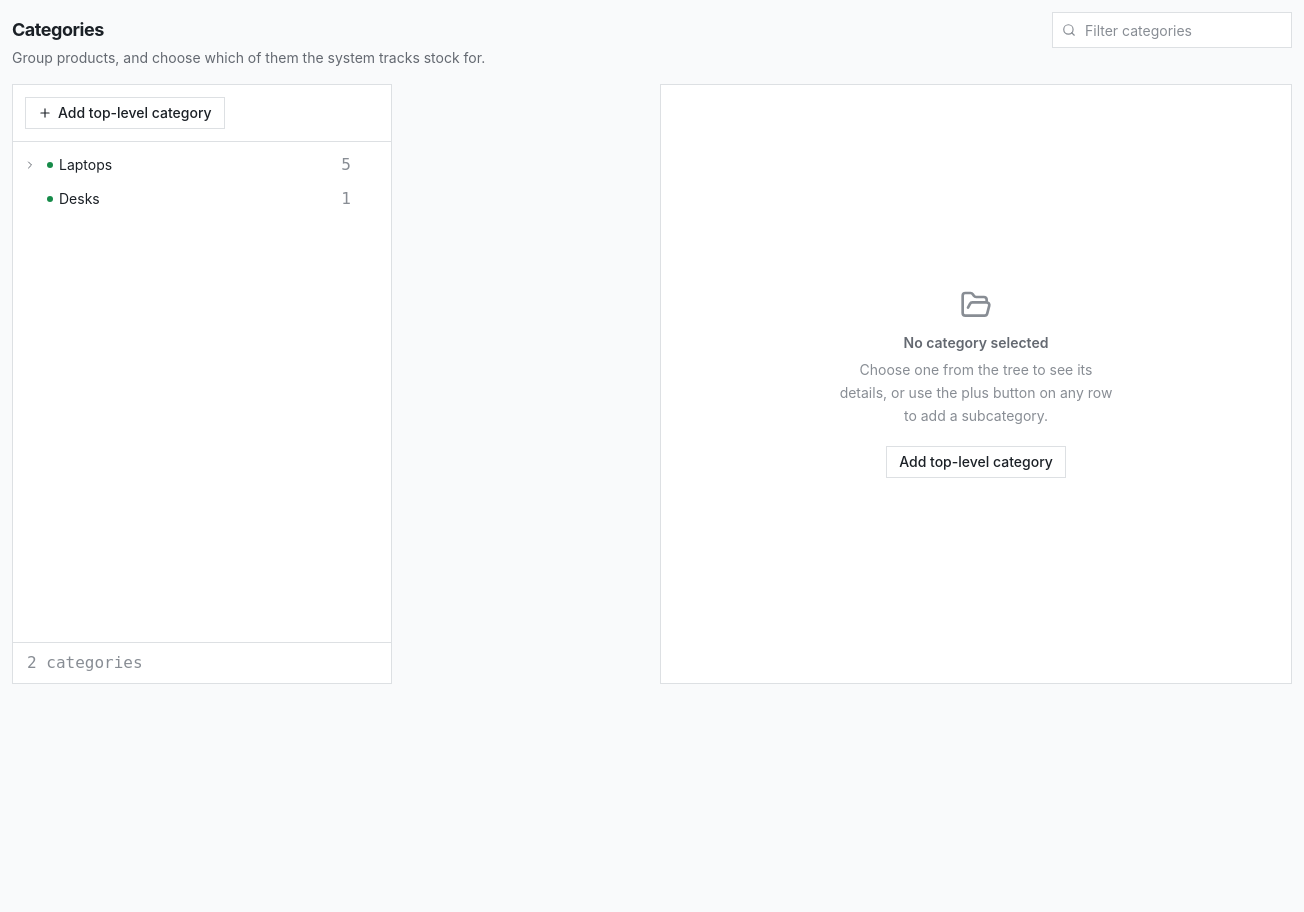
Test case: CategoriesPage › the tree › keeps children hidden until the branch is expanded
Expected: the list item "Gaming" is not shown
Click the button named "Expand Laptops" at (30, 164), box [19,154,41,176]
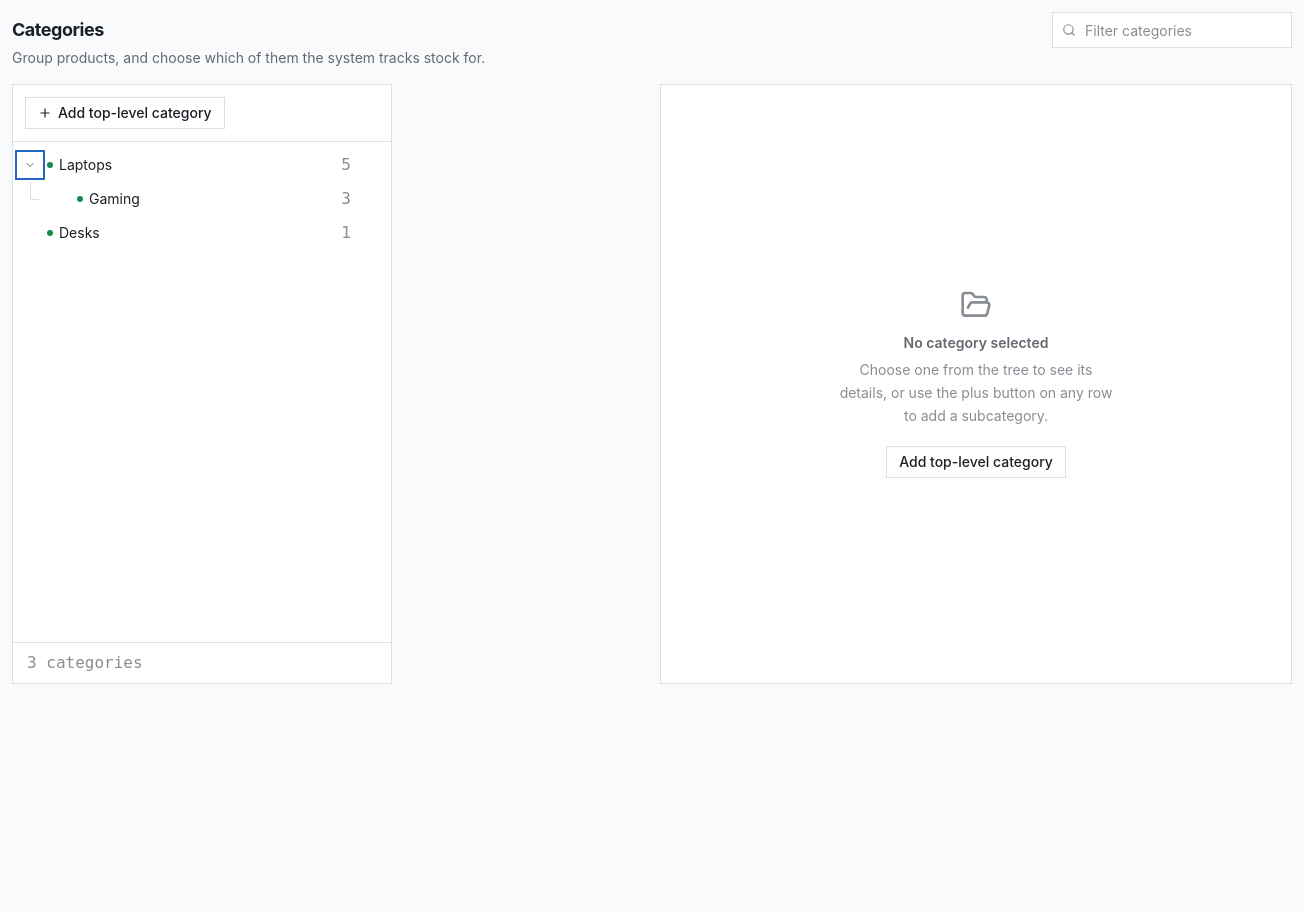
Expected: the list item "Gaming 3" is shown, [77,188,351,208]
